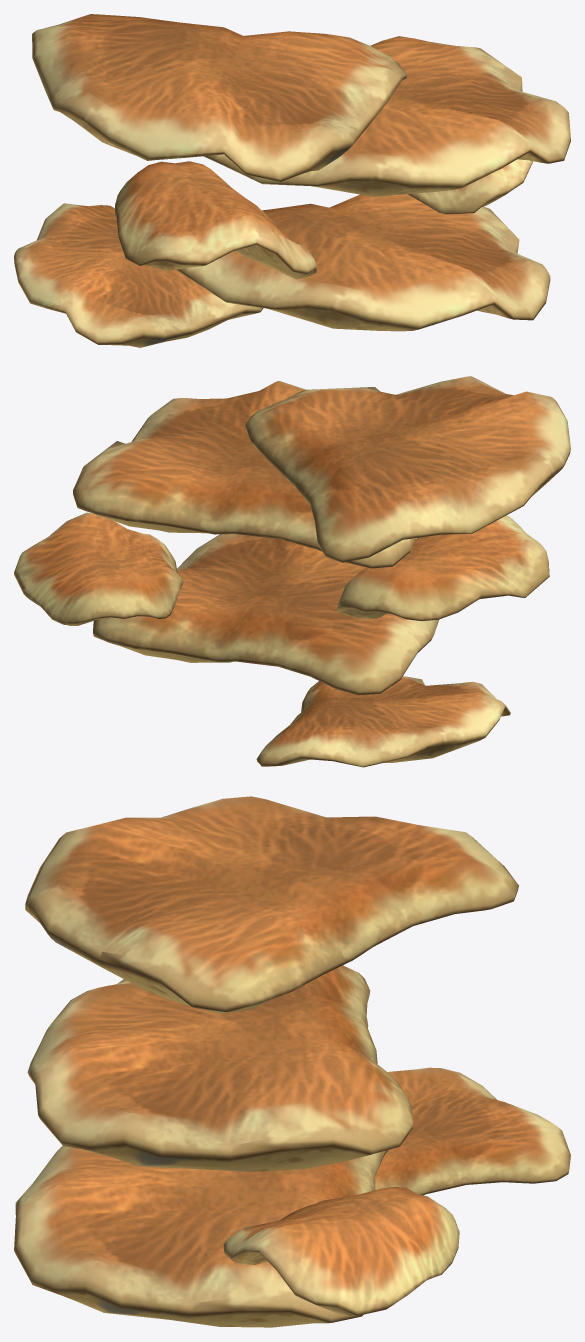
File: Mushroom_Laetiporus.gltf
The picture shows the model from 3 angles, top to bottom: view 1: azimuth 30°, elevation 25°; view 2: azimuth 150°, elevation 25°; view 3: azimuth 270°, elevation 25°; orthographic projection. The views are drawn at different scales.
Parts seen in each view (by area): view 1: Mushroom_Laetiporus; view 2: Mushroom_Laetiporus; view 3: Mushroom_Laetiporus.
Boxes of the visible parts, x1,y1,x2,y2 form: Mushroom_Laetiporus: [14, 14, 570, 347]; Mushroom_Laetiporus: [14, 376, 570, 767]; Mushroom_Laetiporus: [14, 796, 570, 1327].
Bounding box in the file's own units: 1.37 × 0.767 × 1.1.
Materials: 1 (1 with a texture image).
